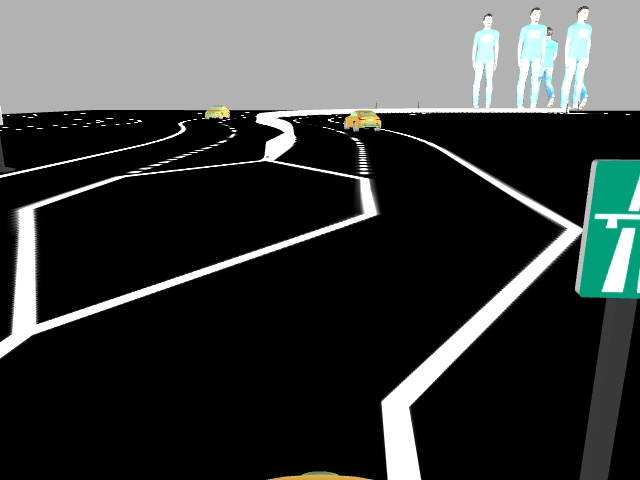HighwayEntrance: (573, 156, 639, 301)
